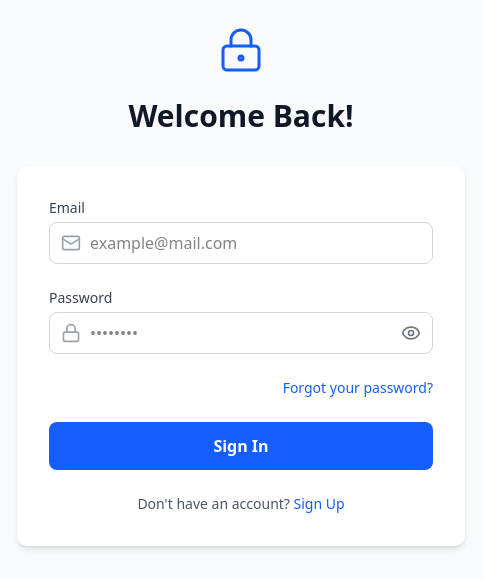
Test: Sign In Functionality › shows error when password is too short
In the field with test id "email-input": {"x": 241, "y": 243} [49,222,433,264], type "emirhan@hotmail.com"
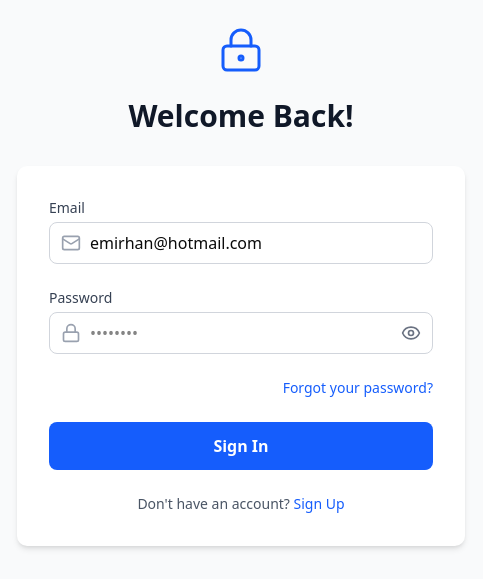
In the password field with test id "password-input": {"x": 241, "y": 333} [49,312,433,354], type "123"
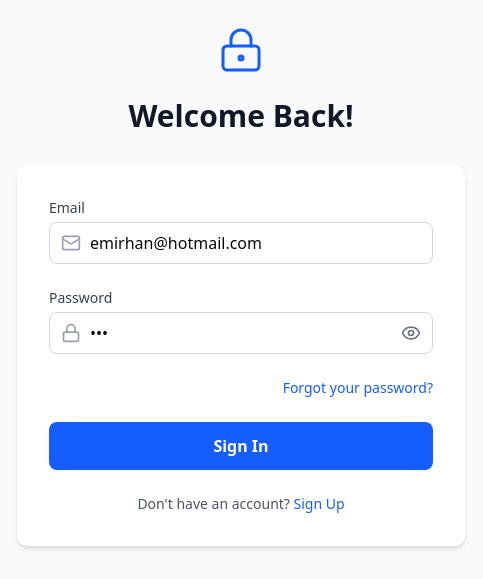
Click the button with test id "submit-button": {"x": 241, "y": 446} [49,422,433,470]
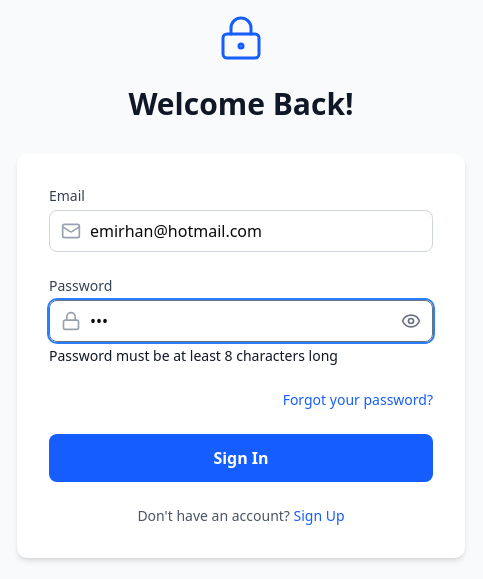
Check: the text "Password must be at least 8 characters long" is shown, box [49,346,338,365]
